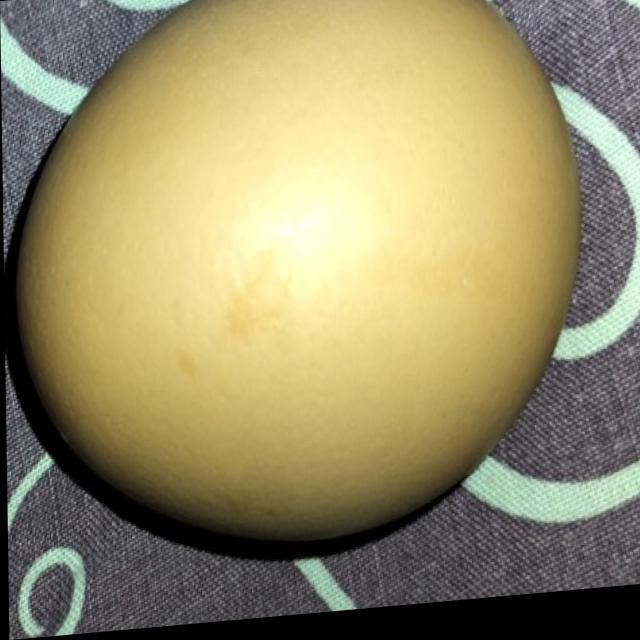fresh: (1, 0, 571, 559)
